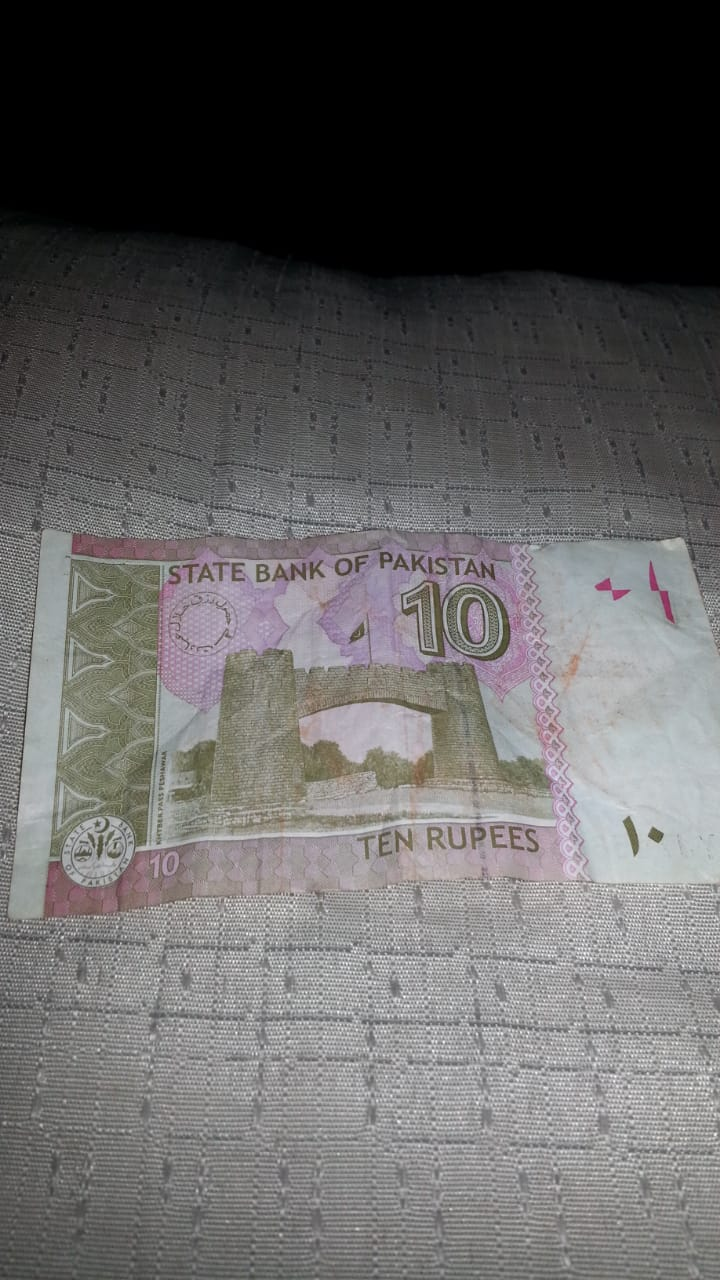10 rupee: (6, 498, 720, 978)
